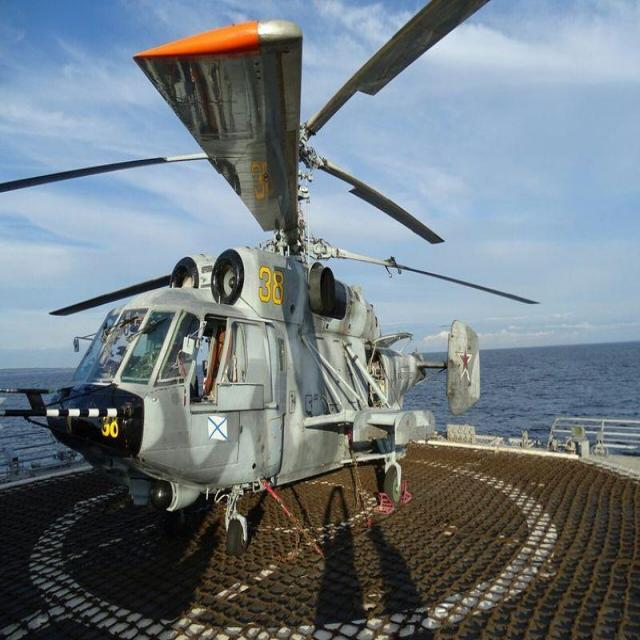MIL_HELO: (0, 22, 548, 550)
